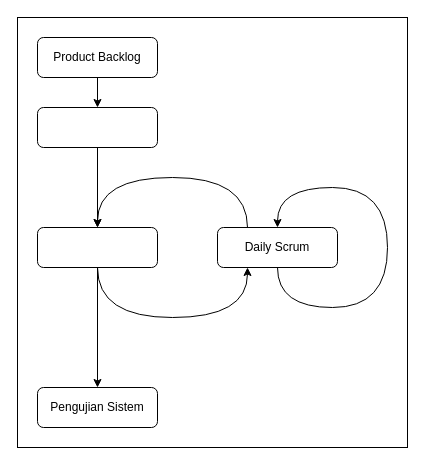
This 425x465 diagram has some shape labels left out. Each missing label, with the box of its shape:
Sprint: (36, 226, 158, 268)
Sprint Backlog: (36, 106, 158, 148)
